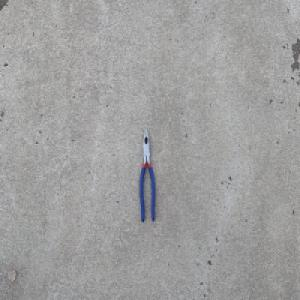Pliers: (138, 127, 155, 223)
